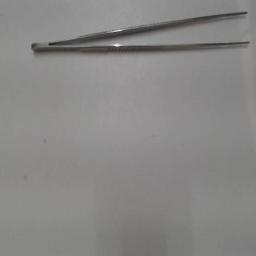DeBakey Dissector: (22, 3, 254, 63)
